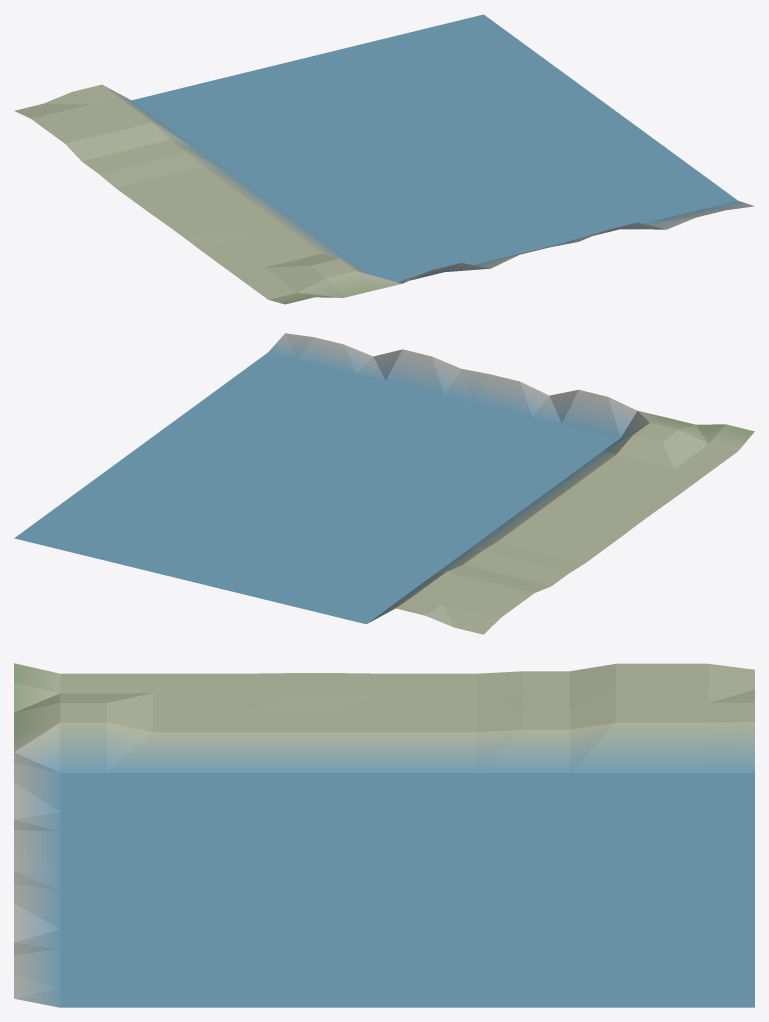
3 views of the same model, one above another, from view 1: azimuth 30°, elevation 25°; view 2: azimuth 150°, elevation 25°; view 3: azimuth 270°, elevation 25° (orthographic). The views are drawn at different scales.
Bounding box in the file's own units: 32 × 1.5 × 32.
